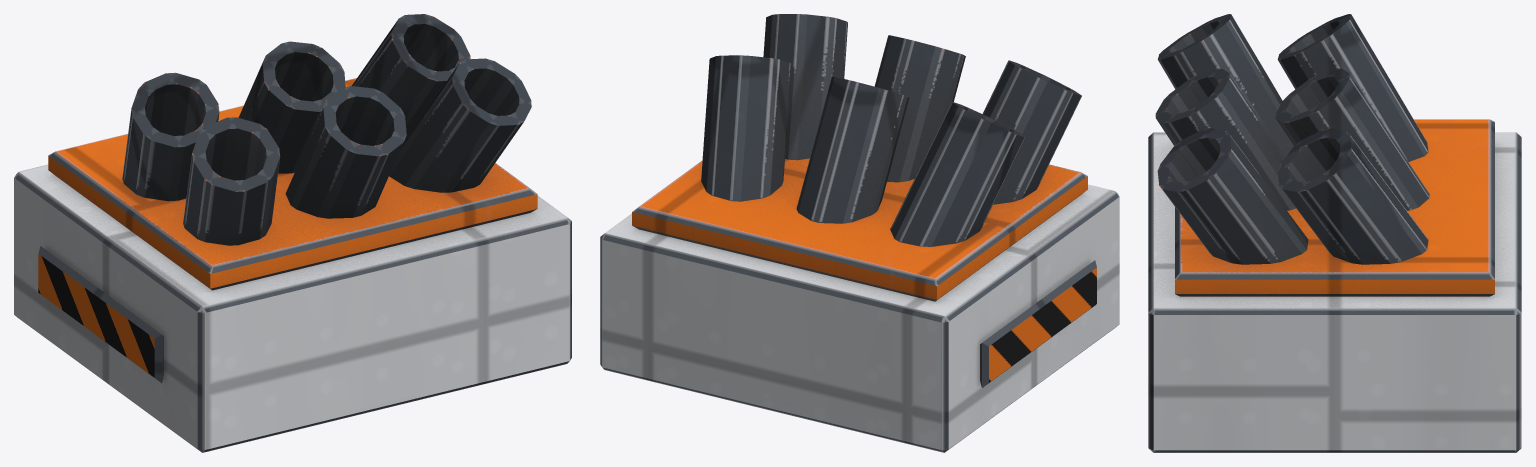
Rendered from contramedidas_t2.fbx.
The picture shows the model from 3 angles, left to right: view 1: azimuth 30°, elevation 25°; view 2: azimuth 150°, elevation 25°; view 3: azimuth 270°, elevation 25°; orthographic projection. The views are drawn at different scales.
Visible parts, largest first — view 1: contramedidas_t2; view 2: contramedidas_t2; view 3: contramedidas_t2.
Part boxes in pixels (<box>): contramedidas_t2: <box>14,14,571,452</box>; contramedidas_t2: <box>600,14,1119,452</box>; contramedidas_t2: <box>1148,14,1521,452</box>.
Bounding box in the file's own units: 1.64 × 1.4 × 1.4.
